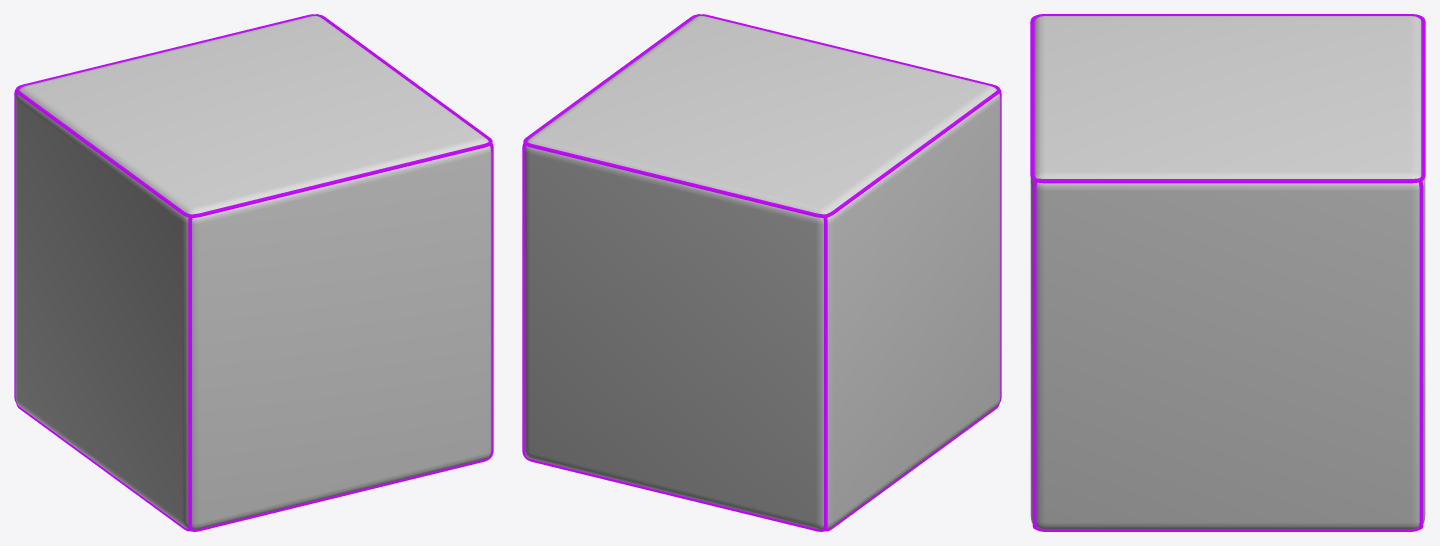
Rendered from transcendence_full.glb.
3 renders of one model, left to right at view 1: azimuth 30°, elevation 25°; view 2: azimuth 150°, elevation 25°; view 3: azimuth 270°, elevation 25°, orthographic. The views are drawn at different scales.
Parts seen in each view (by area): view 1: arena, edges; view 2: arena, edges; view 3: arena, edges.
Part boxes in pixels (box(x1,y1,x2,y2)): arena: box(15, 16, 491, 529); edges: box(14, 14, 493, 531); arena: box(524, 16, 1000, 529); edges: box(522, 14, 1001, 531); arena: box(1030, 16, 1425, 529); edges: box(1030, 14, 1425, 531).
Size of the model in its own units: 100 by 99.96 by 100.
